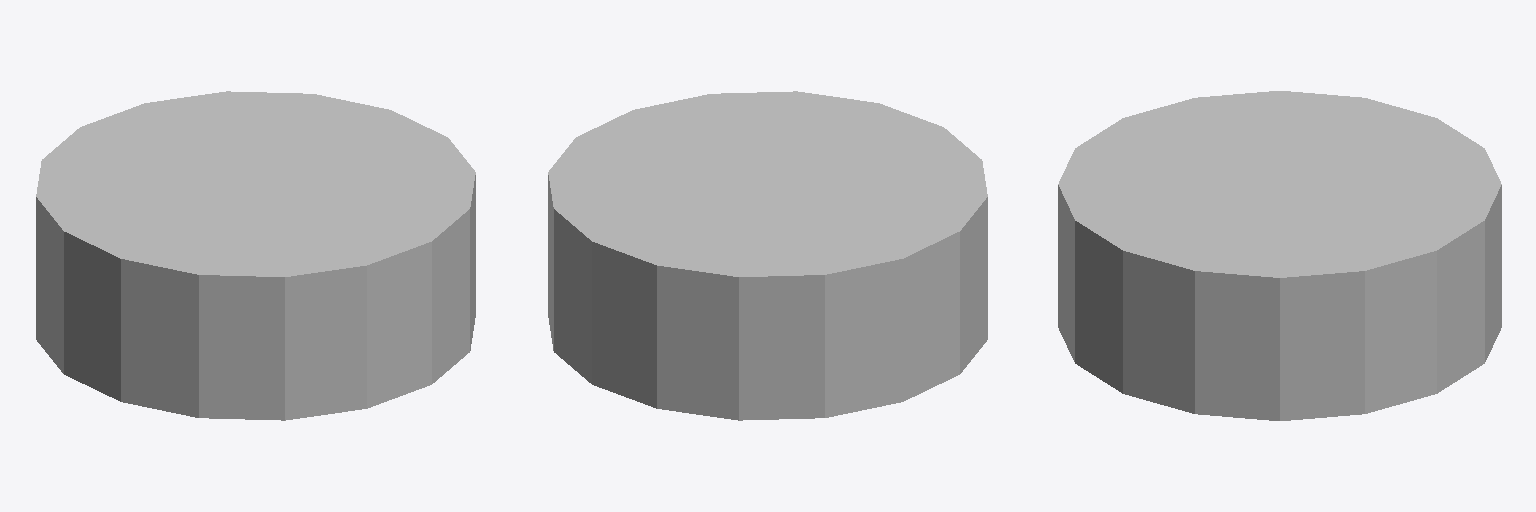
File: DrumSet_SnareDrum.obj
The picture shows the model from 3 angles: view 1: azimuth 30°, elevation 25°; view 2: azimuth 150°, elevation 25°; view 3: azimuth 270°, elevation 25°; orthographic projection.
Parts seen in each view (by area): view 1: Converted object 0; view 2: Converted object 0; view 3: Converted object 0.
Part boxes in pixels (bbox=[...]): Converted object 0: bbox=[36, 91, 475, 420]; Converted object 0: bbox=[548, 91, 987, 420]; Converted object 0: bbox=[1058, 91, 1501, 420].
Size of the model in its own units: 14 by 4.99 by 14.